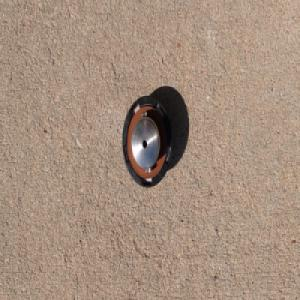FuelCap: (120, 93, 173, 190)
